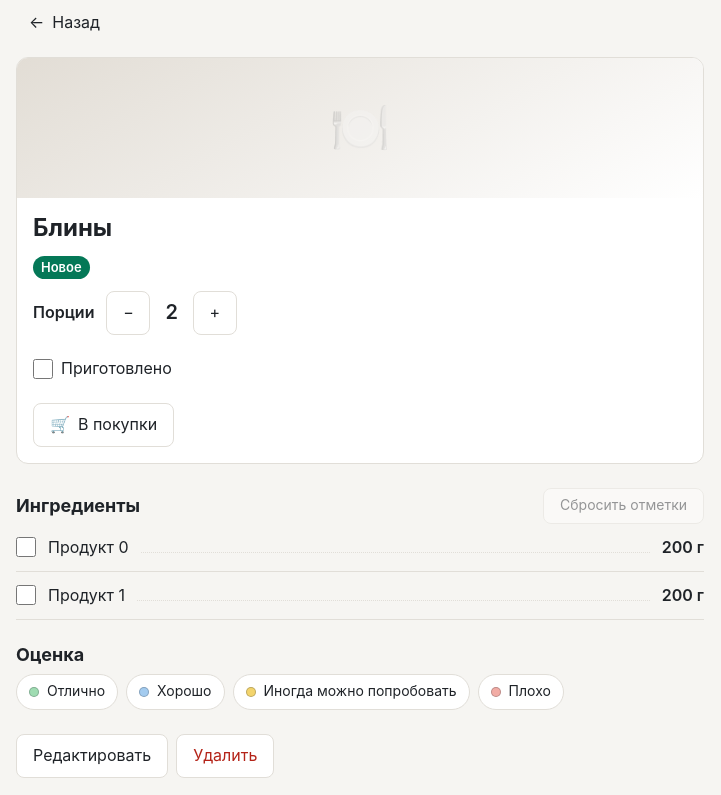
Test: RecipeView: отметки › отметка ингредиента сохраняется и включает «Сбросить отметки»
Expected: the heading "Блины" is shown, [33,213,112,242]
Click the checkbox named "Куплено: Продукт 0" at x=26, y=547, box [16,537,36,557]
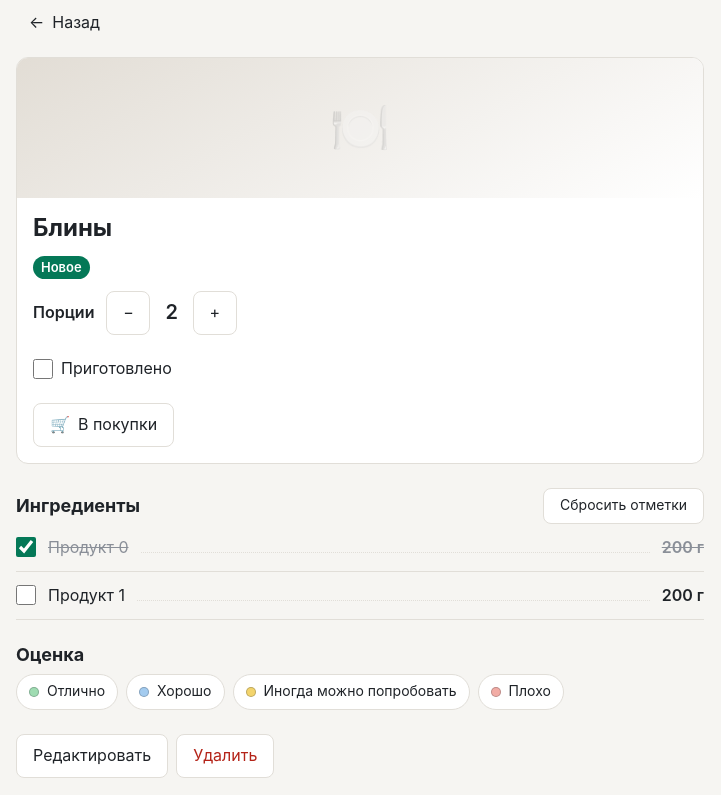
Expected: the button "Сбросить отметки" is enabled, [543,488,704,524]
